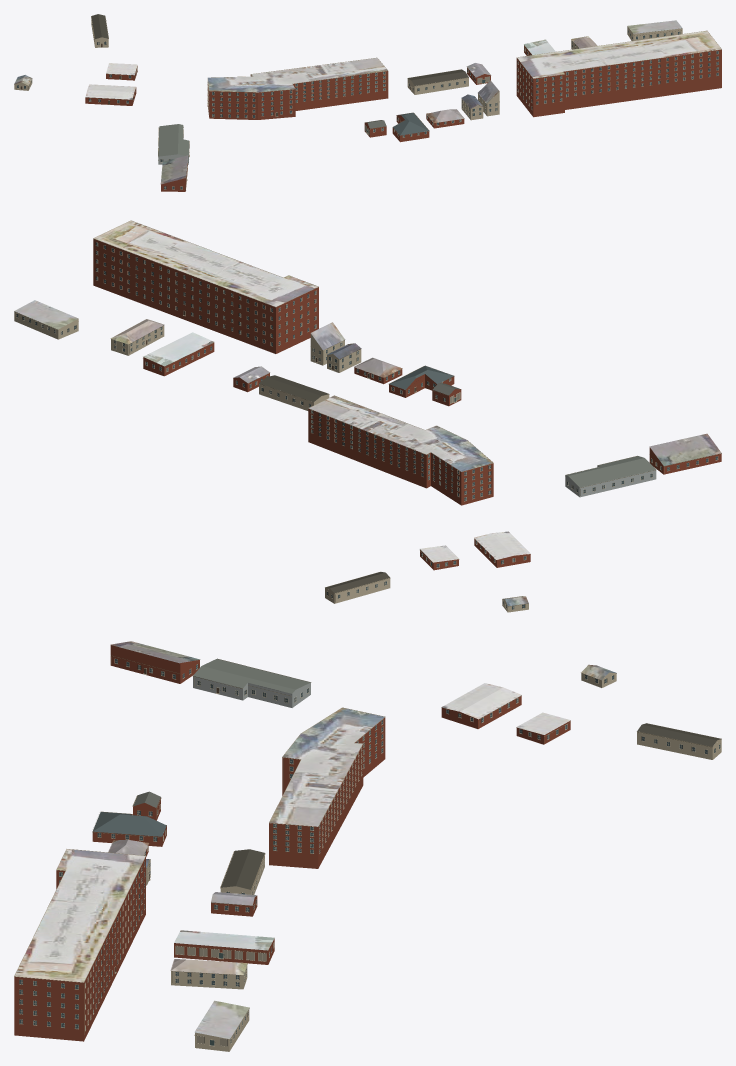
3 renders of one model, top to bottom at view 1: azimuth 30°, elevation 25°; view 2: azimuth 150°, elevation 25°; view 3: azimuth 270°, elevation 25°, orthographic. The views are drawn at different scales.
Parts seen in each view (by area): view 1: -2_-1_318266371_1, -2_-1_318266410_2, -2_-1_318870076_3; view 2: -2_-1_318266371_1, -2_-1_318266410_2, -2_-1_318870076_3; view 3: -2_-1_318266371_1, -2_-1_318266410_2, -2_-1_318870076_3.
Part boxes in pixels (<box>): -2_-1_318266371_1: <box>14,16,721,191</box>; -2_-1_318266410_2: <box>91,14,468,164</box>; -2_-1_318870076_3: <box>14,17,682,120</box>; -2_-1_318266371_1: <box>14,220,721,610</box>; -2_-1_318266410_2: <box>259,366,656,593</box>; -2_-1_318870076_3: <box>14,312,528,612</box>; -2_-1_318266371_1: <box>14,641,721,1046</box>; -2_-1_318266410_2: <box>92,659,720,889</box>; -2_-1_318870076_3: <box>146,672,721,1051</box>.
Size of the model in its own units: 351 by 32.8 by 257.
14 materials, 1 textured.
